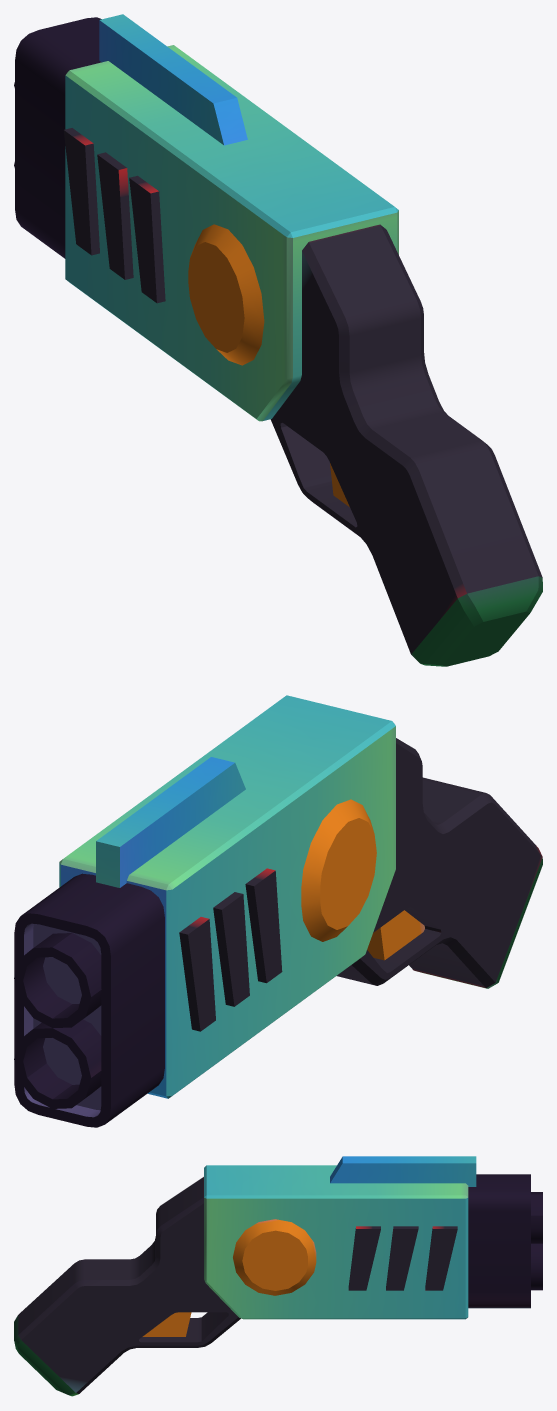
Rendered from Space_Gun.FBX.
3 views of the same model, one above another, from view 1: azimuth 30°, elevation 25°; view 2: azimuth 150°, elevation 25°; view 3: azimuth 270°, elevation 25° (orthographic). The views are drawn at different scales.
Visible parts, largest first — view 1: Space_Gun; view 2: Space_Gun; view 3: Space_Gun.
Boxes of the visible parts, x1,y1,x2,y2 form: Space_Gun: [14, 14, 542, 666]; Space_Gun: [14, 695, 542, 1127]; Space_Gun: [14, 1156, 542, 1396].
Bounding box in the file's own units: 6.04 × 16.55 × 34.9.
